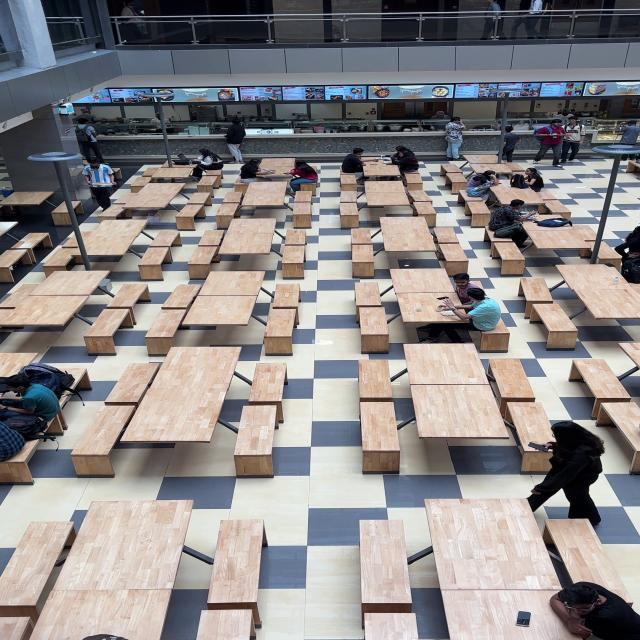Occupied: (447, 589, 568, 638), (549, 587, 640, 640), (442, 287, 504, 344), (1, 374, 62, 425), (398, 292, 464, 328), (482, 204, 540, 243), (0, 438, 44, 479), (462, 170, 509, 200), (288, 162, 322, 197), (189, 150, 225, 180), (342, 149, 371, 186), (467, 170, 500, 202), (453, 274, 484, 308), (240, 158, 276, 185), (520, 171, 556, 195), (394, 147, 421, 178), (240, 162, 269, 184), (521, 170, 546, 192), (511, 174, 532, 190)
Unoccupied: (49, 501, 198, 593), (417, 498, 558, 591), (28, 589, 177, 640), (541, 515, 627, 587), (1, 522, 77, 603), (128, 392, 224, 449), (360, 519, 410, 624), (412, 387, 511, 440), (205, 520, 267, 604), (1, 295, 95, 333), (69, 222, 150, 263), (572, 362, 634, 413), (168, 345, 238, 389), (489, 363, 540, 423), (406, 344, 492, 379), (111, 183, 188, 221), (360, 402, 401, 471), (509, 411, 563, 463), (180, 295, 259, 328), (522, 226, 601, 259), (236, 409, 280, 468), (568, 286, 640, 322), (80, 406, 123, 464), (375, 218, 439, 256), (28, 270, 114, 298), (599, 405, 640, 463), (554, 264, 633, 294), (217, 223, 279, 260), (532, 304, 581, 348), (196, 270, 267, 298), (487, 183, 566, 208), (110, 362, 149, 411), (83, 310, 132, 349), (193, 609, 254, 640), (237, 184, 291, 218), (389, 268, 458, 294), (49, 232, 104, 264), (145, 314, 188, 354), (362, 182, 409, 218), (519, 278, 557, 320), (364, 612, 417, 640), (359, 362, 395, 403), (264, 312, 298, 354), (252, 365, 287, 404), (474, 314, 511, 350), (359, 310, 390, 352), (493, 240, 528, 275), (42, 248, 83, 276), (221, 238, 278, 258), (162, 284, 203, 311), (1, 283, 39, 312), (108, 283, 150, 309), (138, 248, 172, 280), (252, 363, 288, 393), (146, 168, 196, 189), (0, 352, 40, 378), (570, 358, 614, 381), (362, 162, 403, 186), (230, 216, 274, 238), (188, 248, 219, 279), (438, 243, 470, 273), (146, 230, 180, 258), (589, 240, 624, 267), (473, 163, 528, 180), (0, 615, 37, 640), (0, 250, 30, 280), (0, 192, 56, 208), (272, 283, 302, 311), (12, 233, 53, 252), (488, 231, 516, 258), (464, 199, 494, 224), (52, 204, 88, 224), (282, 246, 306, 275), (412, 198, 438, 224), (340, 196, 361, 228), (61, 368, 90, 391), (193, 243, 213, 276), (184, 192, 214, 213), (541, 199, 574, 218), (442, 171, 468, 195), (215, 202, 242, 225), (176, 206, 204, 228), (618, 343, 640, 371), (258, 158, 296, 174), (292, 200, 314, 227), (197, 230, 226, 250), (287, 227, 314, 247), (435, 228, 463, 245), (464, 154, 502, 166), (198, 175, 223, 193), (352, 228, 374, 248), (98, 208, 128, 222), (284, 230, 308, 247), (199, 229, 221, 247), (60, 234, 86, 249), (0, 222, 21, 240), (404, 172, 424, 190), (63, 525, 78, 549), (441, 164, 466, 178), (130, 176, 156, 189), (293, 190, 315, 204), (222, 192, 246, 204), (543, 524, 556, 546), (340, 192, 360, 206), (297, 181, 317, 194), (341, 172, 358, 187), (234, 182, 252, 196), (464, 281, 486, 292), (112, 168, 124, 184), (143, 168, 162, 177)
